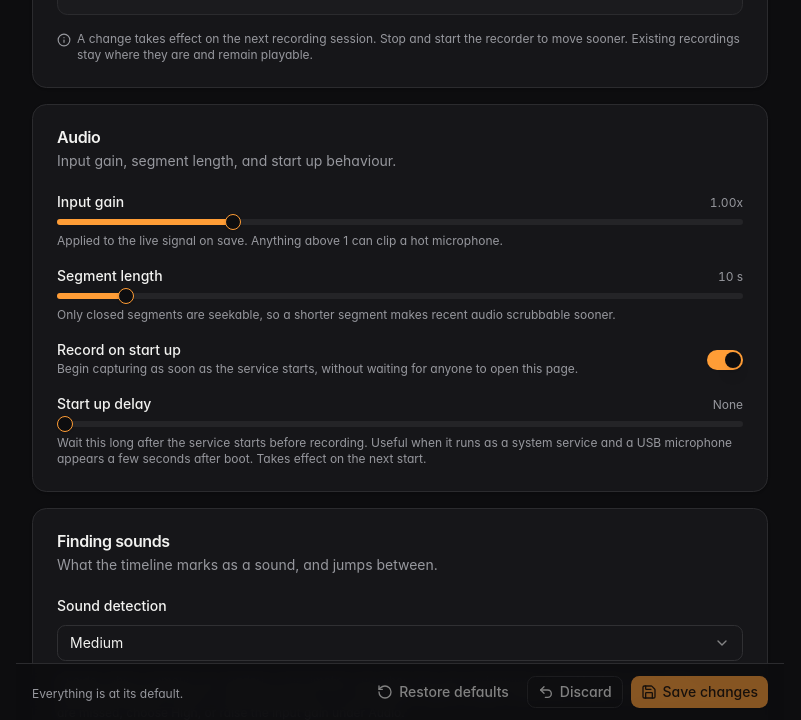
Scenario: the settings page › the one Save bar › counts an edit made in any card
(page scrolled)
Expected: the text "Everything is at its default." is shown, [32,686,183,701]
Click the switch named "Record on start up" at (725, 360), box [707,350,743,370]
(page scrolled)
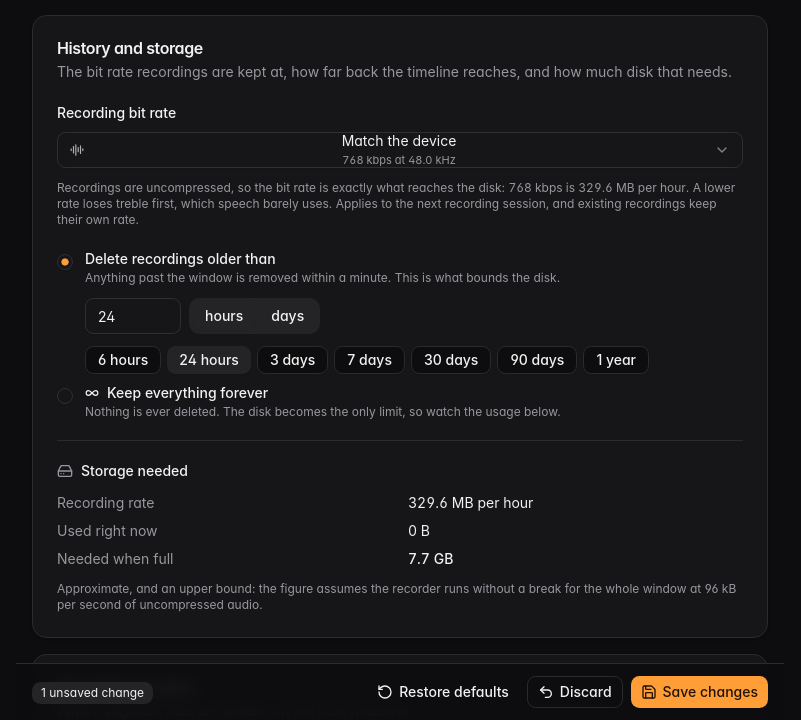
Click the button "7 days" at (370, 360), box [334,346,405,374]
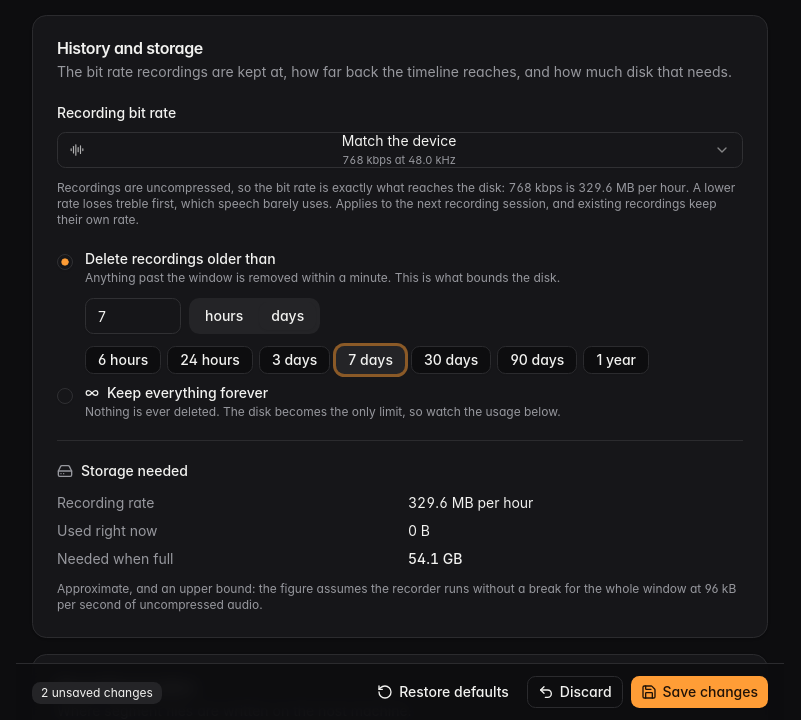
Result: the text "2 unsaved changes" is shown at [32,682,162,704]
